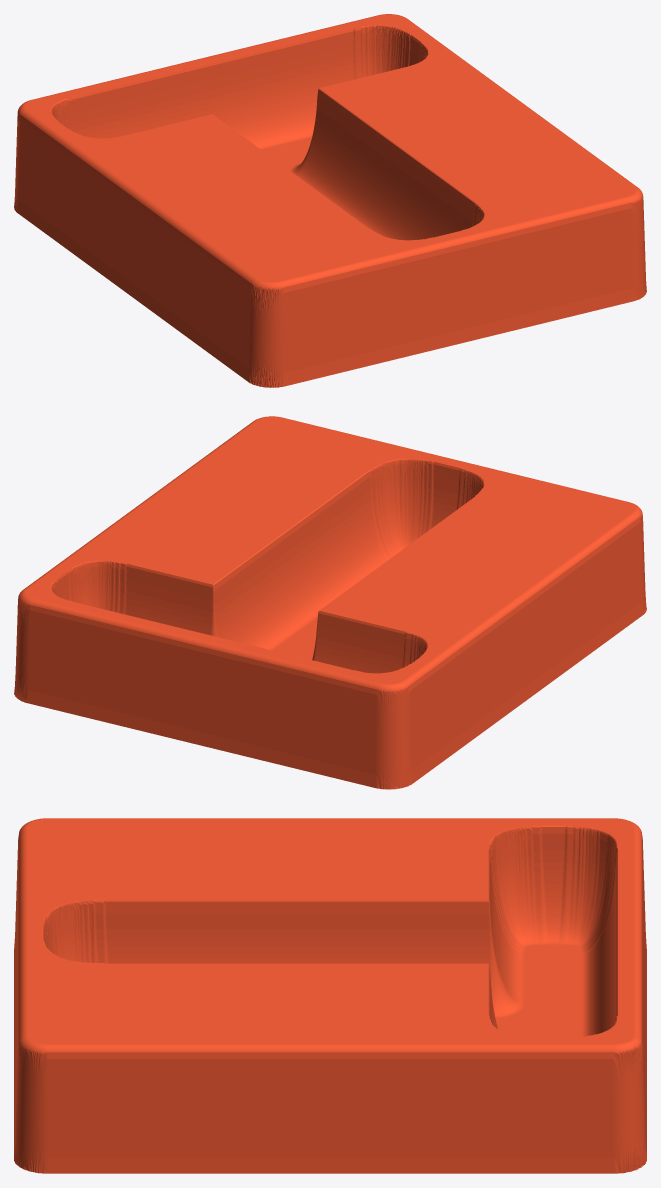
Rendered from mold.glb.
3 views of the same model, one above another, from view 1: azimuth 30°, elevation 25°; view 2: azimuth 150°, elevation 25°; view 3: azimuth 270°, elevation 25° (orthographic). The views are drawn at different scales.
Visible parts, largest first — view 1: geometry_0; view 2: geometry_0; view 3: geometry_0.
Part boxes in pixels (x1=…): geometry_0: x1=14, y1=14, x2=646, y2=387; geometry_0: x1=14, y1=416, x2=646, y2=789; geometry_0: x1=14, y1=818, x2=646, y2=1173.
Size of the model in its own units: 0.1493 by 0.0365 by 0.1689.
